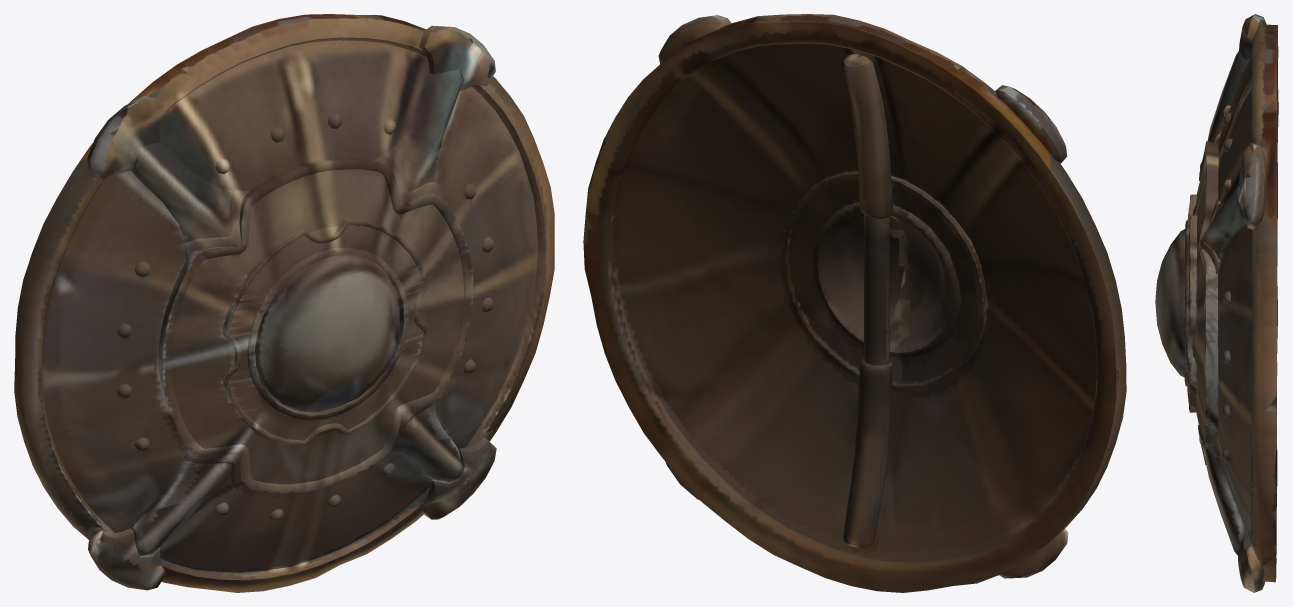
Rendered from mvadapter.glb.
The picture shows the model from 3 angles, left to right: view 1: azimuth 30°, elevation 25°; view 2: azimuth 150°, elevation 25°; view 3: azimuth 270°, elevation 25°; orthographic projection. The views are drawn at different scales.
Visible parts, largest first — view 1: mvadapter_node_texture_mesh_a5275460ad8cd0b6; view 2: mvadapter_node_texture_mesh_a5275460ad8cd0b6; view 3: mvadapter_node_texture_mesh_a5275460ad8cd0b6.
Part boxes in pixels (x1,y1,x2,y2): mvadapter_node_texture_mesh_a5275460ad8cd0b6: (14,14,554,592); mvadapter_node_texture_mesh_a5275460ad8cd0b6: (583,14,1126,592); mvadapter_node_texture_mesh_a5275460ad8cd0b6: (1155,14,1278,592).
Size of the model in its own units: 4.7 by 4.71 by 1.04.
1 material, 1 textured.
